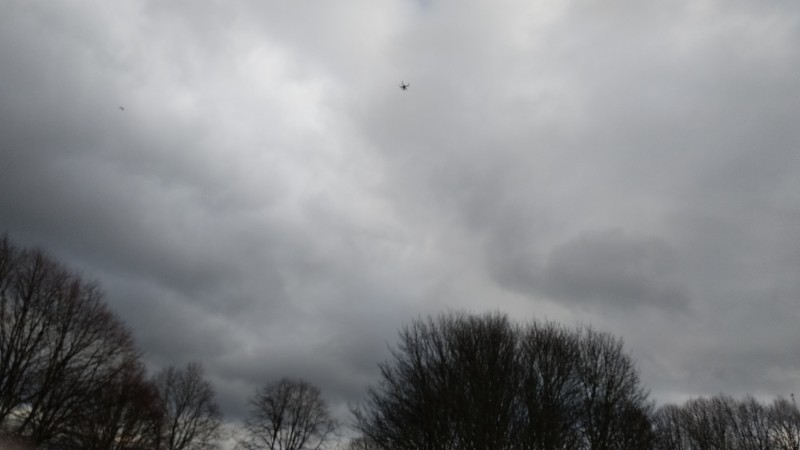drone: (398, 81, 410, 90)
